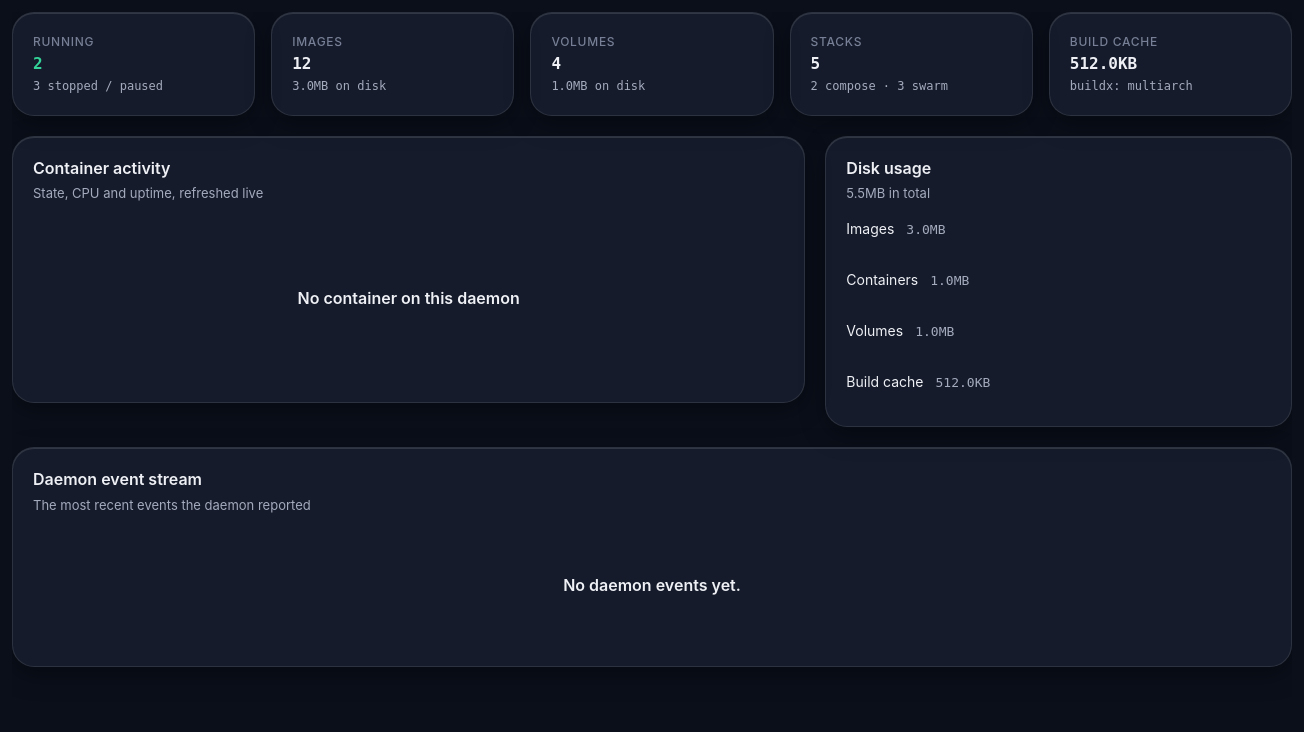
Test: DashboardScreen — where a tile or a row leads (plan-docker_management_app/REQ-18) › activating the tile named Images — open the Images & layers screen navigates to its screen
Click the button with aria-label "Images — open the Images & layers screen": (393, 64) x1=271 y1=12 x2=514 y2=116
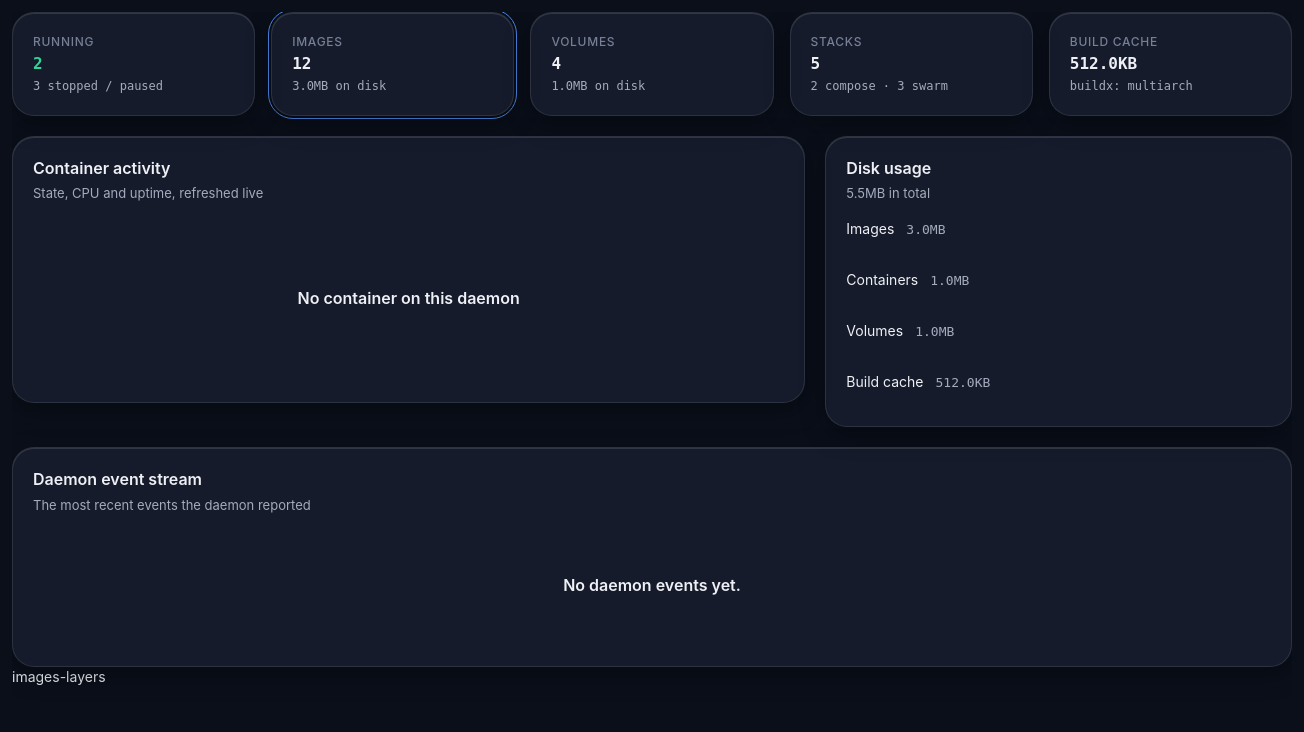
Check: the text with test id "navigation" reads "images-layers", box x1=12 y1=668 x2=106 y2=685
